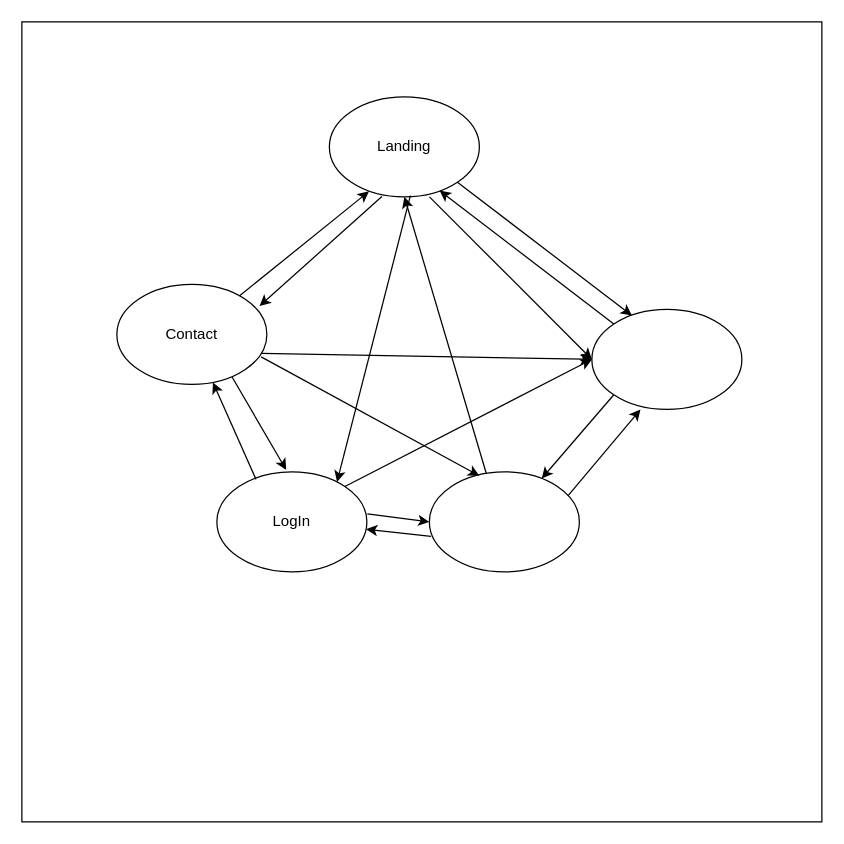
This 844x844 diagram has some shape labels left out. Here are the shapes that lost their labels. From the top down, the centre of each, then its label:
At point (666, 358): "terms&conditions".
At point (503, 521): "Registry".
